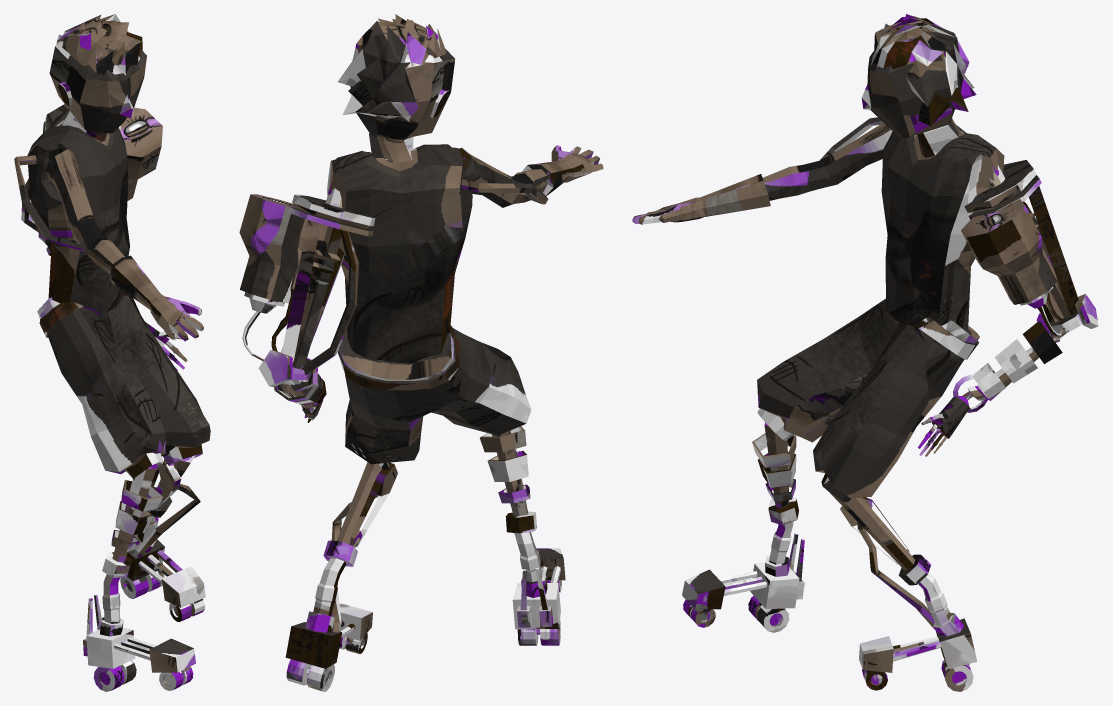
Rendered from CyborgFINALAnimation_000007.obj.
3 renders of one model, left to right at view 1: azimuth 30°, elevation 25°; view 2: azimuth 150°, elevation 25°; view 3: azimuth 270°, elevation 25°, orthographic. The views are drawn at different scales.
Parts seen in each view (by area): view 1: CyborgMesh_Cube.002; view 2: CyborgMesh_Cube.002; view 3: CyborgMesh_Cube.002.
Boxes of the visible parts, x1,y1,x2,y2 form: CyborgMesh_Cube.002: (14,14,210,691); CyborgMesh_Cube.002: (239,14,603,691); CyborgMesh_Cube.002: (632,14,1098,691).
Bounding box in the file's own units: 3.04 × 8.89 × 5.9.
